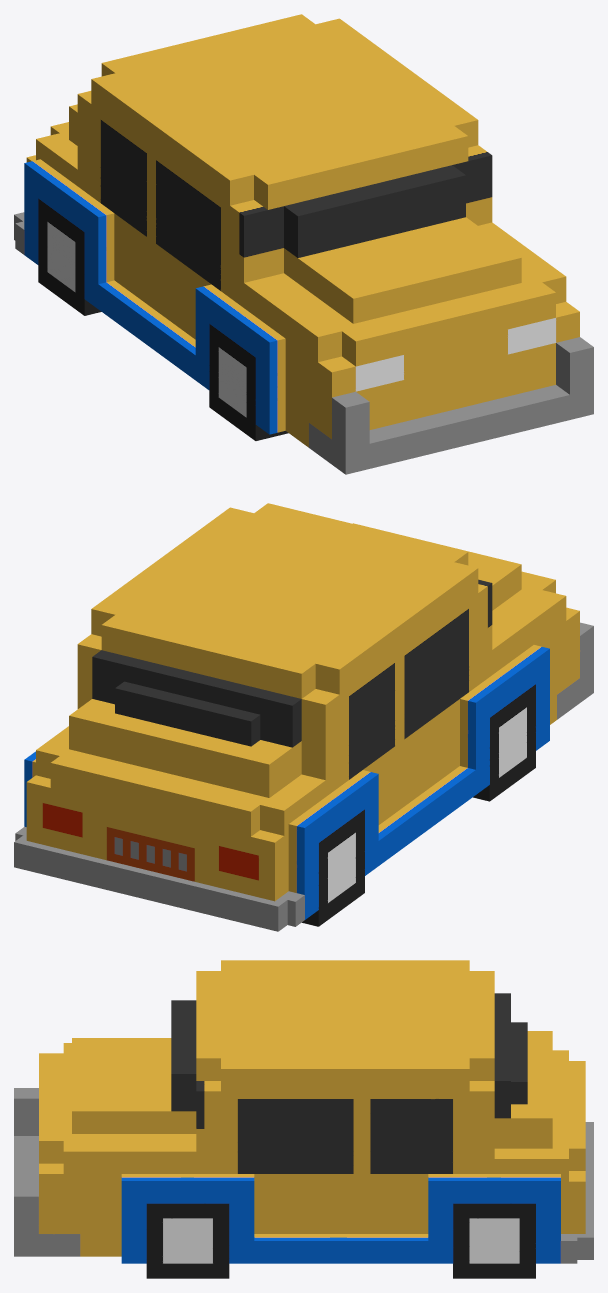
The model's file is Character_0.fbx.
3 views of the same model, one above another, from view 1: azimuth 30°, elevation 25°; view 2: azimuth 150°, elevation 25°; view 3: azimuth 270°, elevation 25° (orthographic). The views are drawn at different scales.
Parts seen in each view (by area): view 1: Character_0; view 2: Character_0; view 3: Character_0.
Part boxes in pixels (x1,y1,x2,y2): Character_0: [14, 14, 593, 474]; Character_0: [14, 503, 593, 931]; Character_0: [14, 960, 593, 1278].
Bounding box in the file's own units: 35 × 27 × 70.
